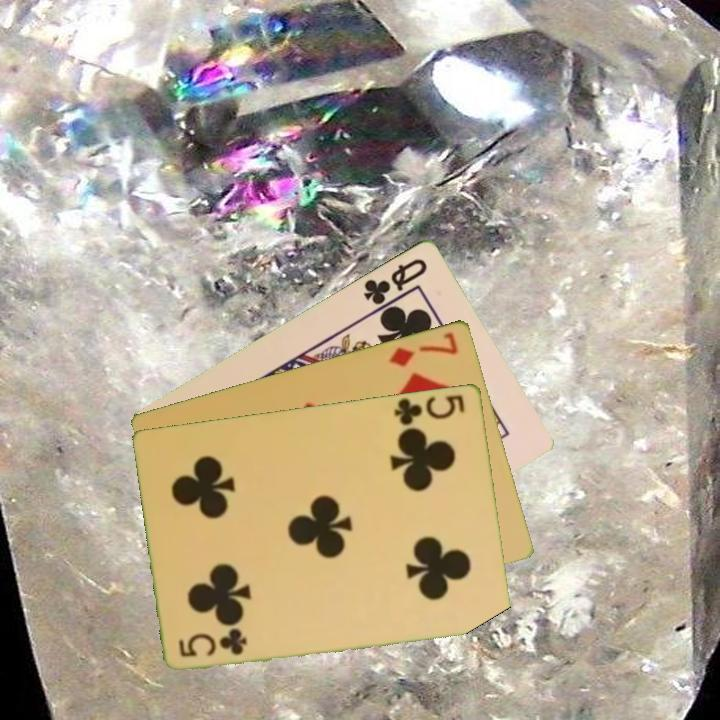5c: (391, 391, 468, 428), (175, 626, 251, 660)
7d: (386, 327, 461, 370)
Qc: (359, 254, 431, 308)
